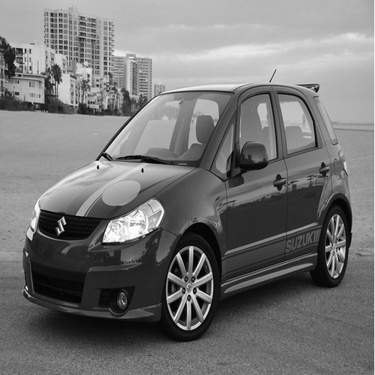car: (11, 63, 354, 332)
